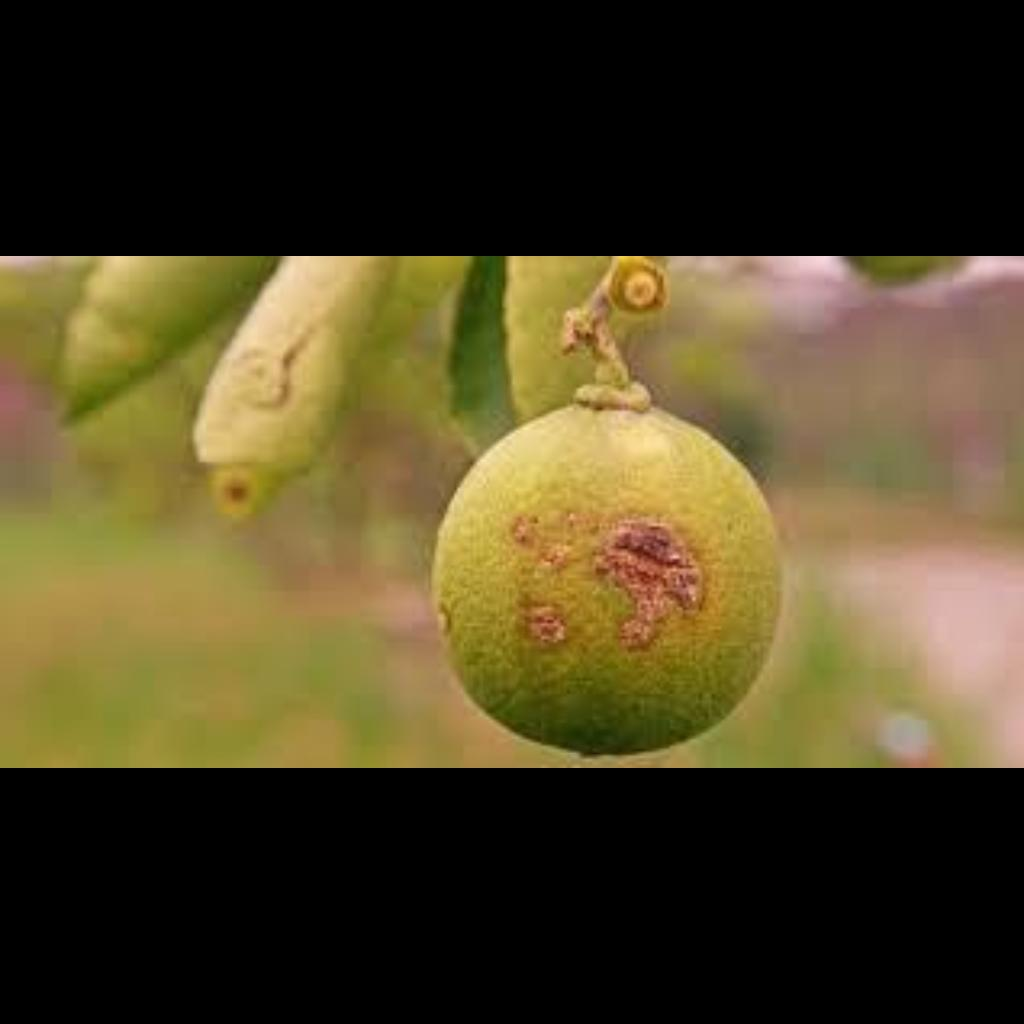Anthracnose: (506, 498, 730, 658)
